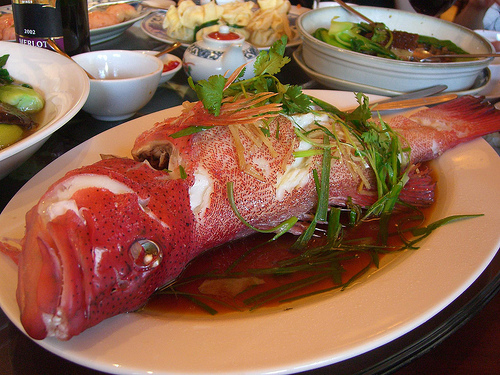fish: (20, 72, 498, 338)
